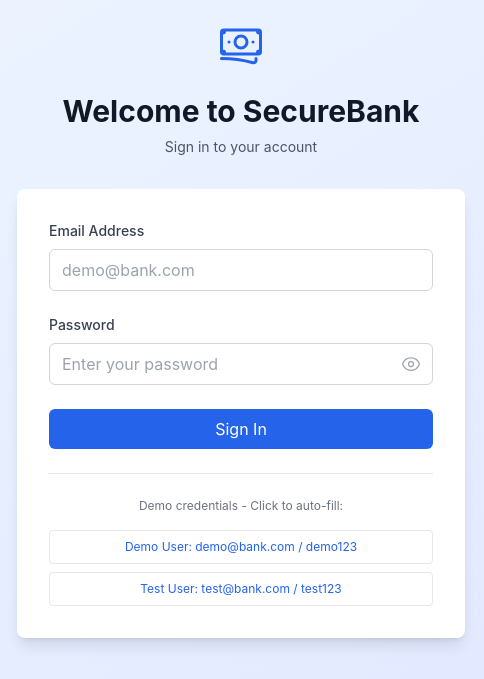
Test: Login › displays validation error for invalid email
Type "invalid-email" into the field with placeholder "demo@bank.com" at (241, 270), box [49,248,433,290]
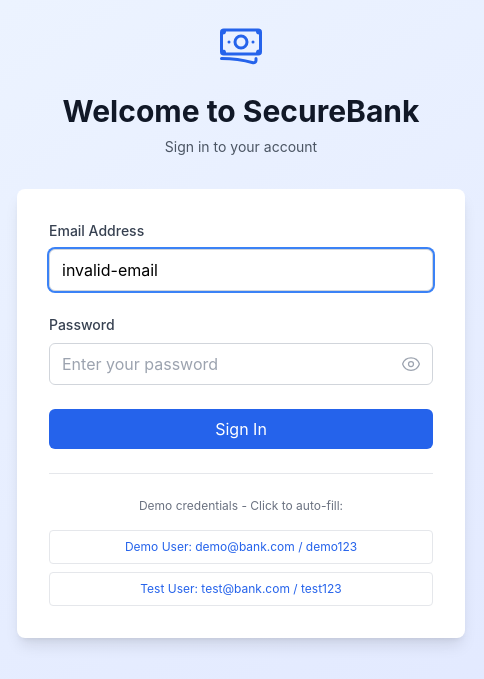
Type "password123" into the password field with placeholder "Enter your password" at (241, 364), box [49,342,433,384]
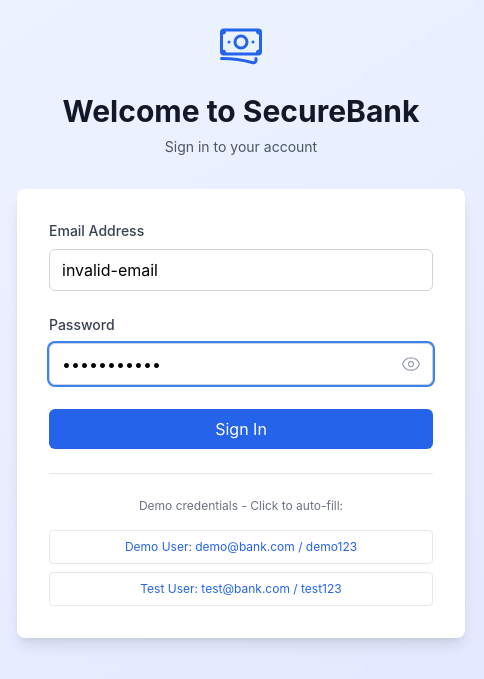
Click the button "Sign In" at (241, 428), box [49,408,433,448]
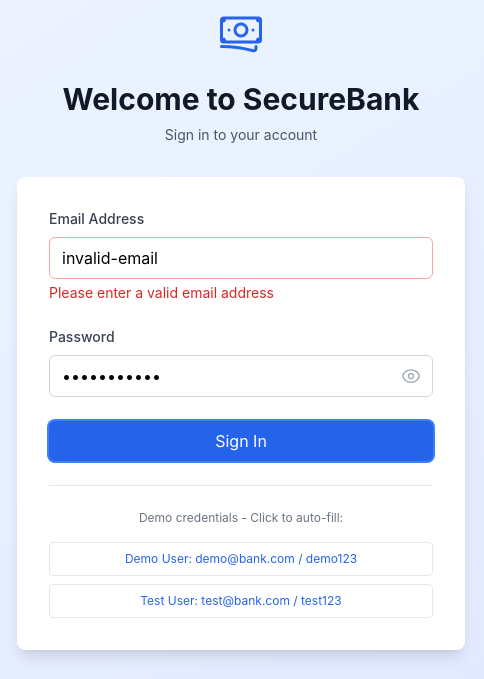
Check: the text "Please enter a valid email address" is shown, box [49,284,274,300]
